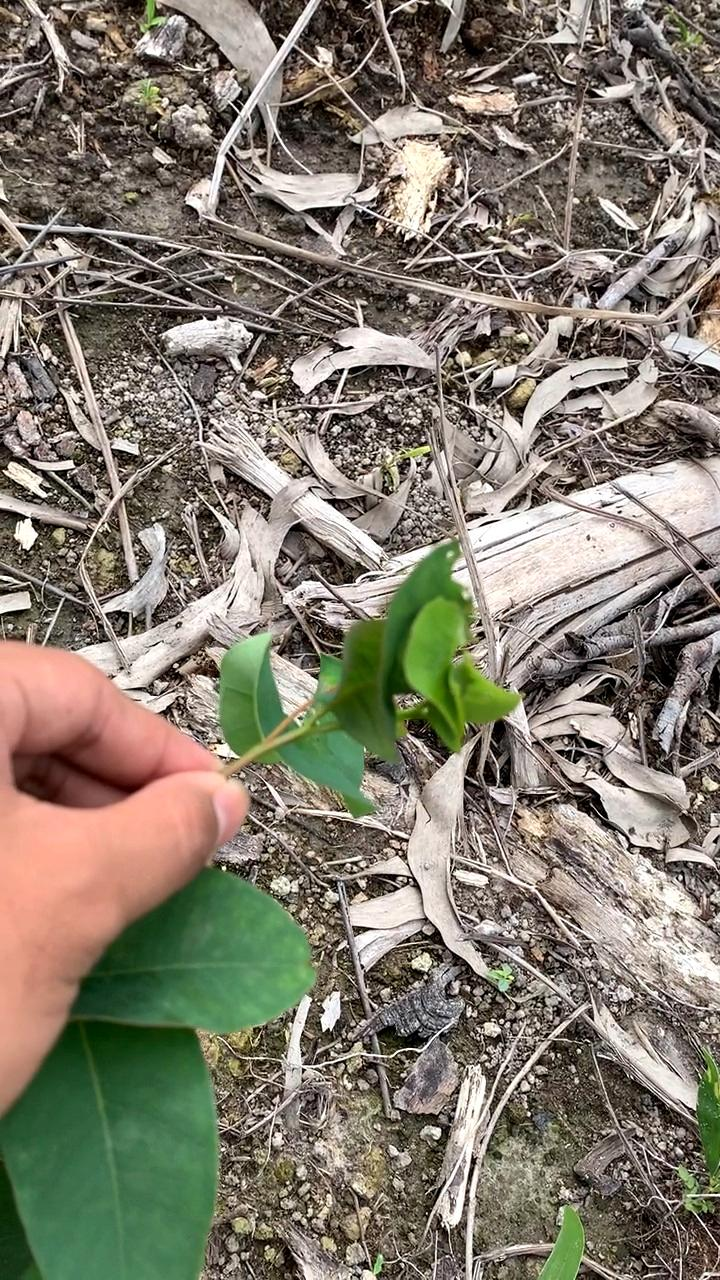Leaf Roller - Leaf: (313, 545, 533, 775)
